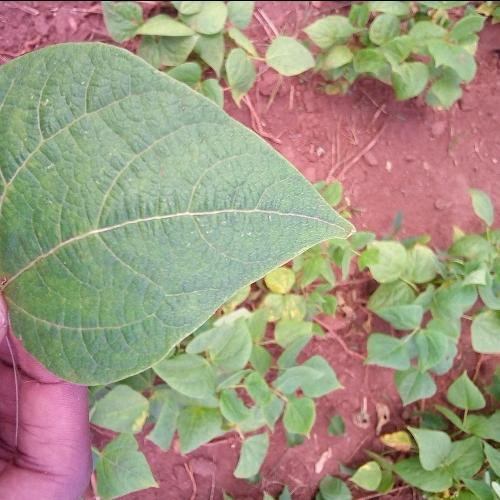embun tepung: (22, 77, 107, 186), (226, 200, 275, 244)
mozaik: (32, 212, 196, 318)
